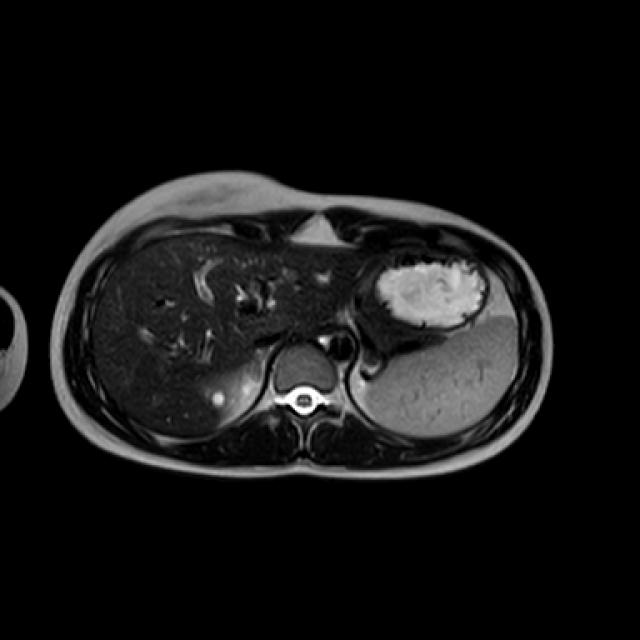sag: (199, 361, 259, 416)
